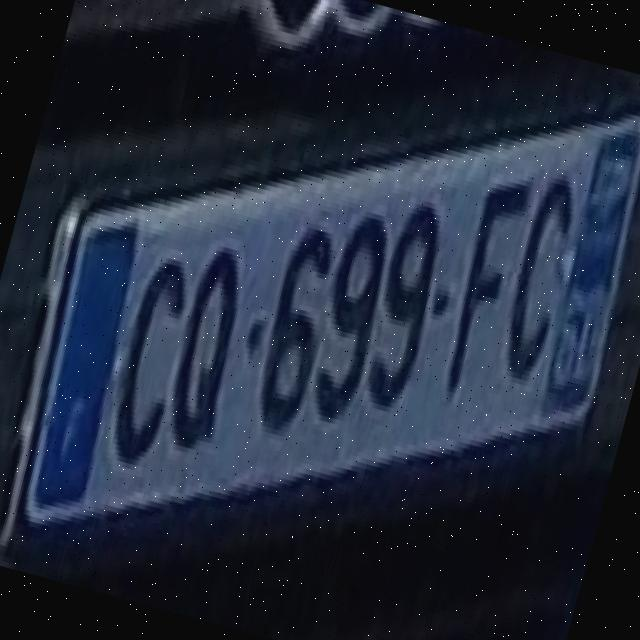EU: (19, 116, 640, 529)
France: (37, 221, 143, 512)
